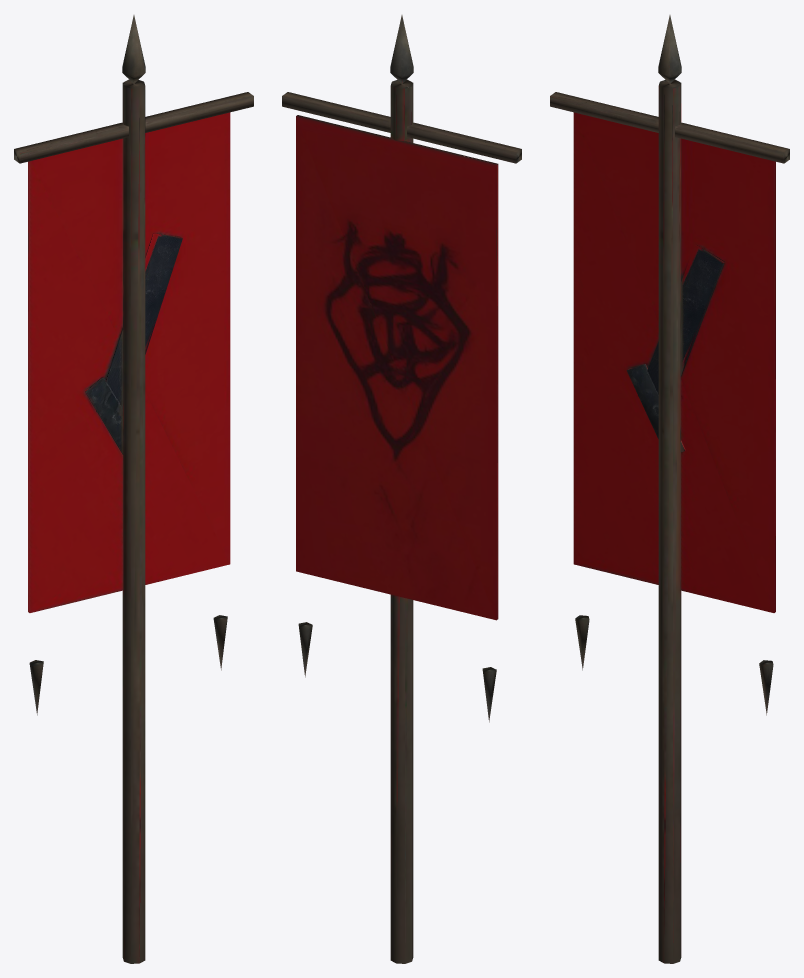
The model's file is banner_clan.glb.
The picture shows the model from 3 angles, left to right: view 1: azimuth 30°, elevation 25°; view 2: azimuth 150°, elevation 25°; view 3: azimuth 330°, elevation 25°; orthographic projection.
Parts seen in each view (by area): view 1: banner_clan; view 2: banner_clan; view 3: banner_clan.
Part boxes in pixels (left/top/right/bottom): banner_clan: left=14, top=15, right=253, bottom=963; banner_clan: left=282, top=15, right=521, bottom=963; banner_clan: left=550, top=15, right=789, bottom=963.
Size of the model in its own units: 1.4 by 5.4 by 0.1487.
Materials: 1 (1 with a texture image).
